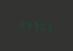five: (46, 20, 52, 32)
nine: (25, 19, 31, 30)
three: (32, 19, 38, 31)
two: (18, 18, 24, 29)
zero: (39, 20, 45, 31)
